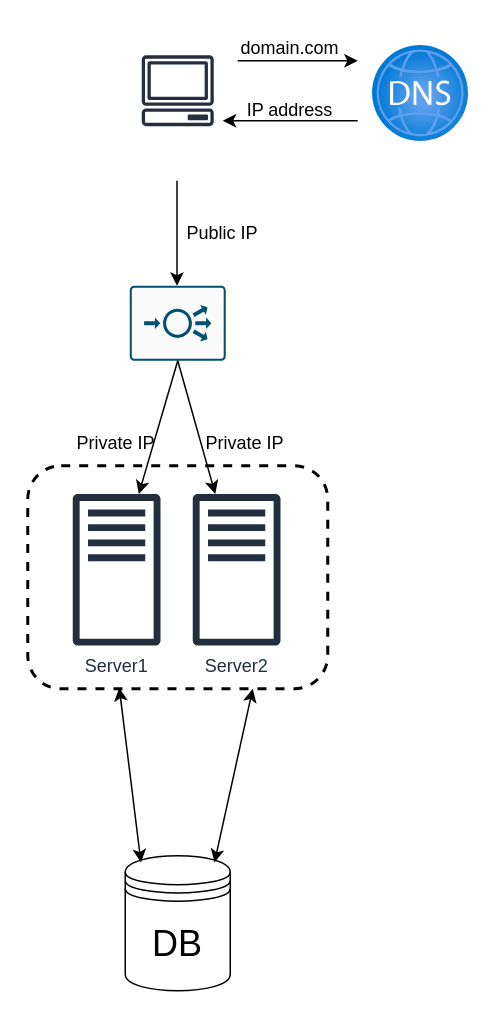
The diagram is 494 pixels wide and 1017 high, and some of its shapes have lost their labels. The shapes that lost their labels are listed below. From the top down, each one's centre as x and y in pixels, then its label:
point 177,90: Client
point 177,322: Load Balancer
